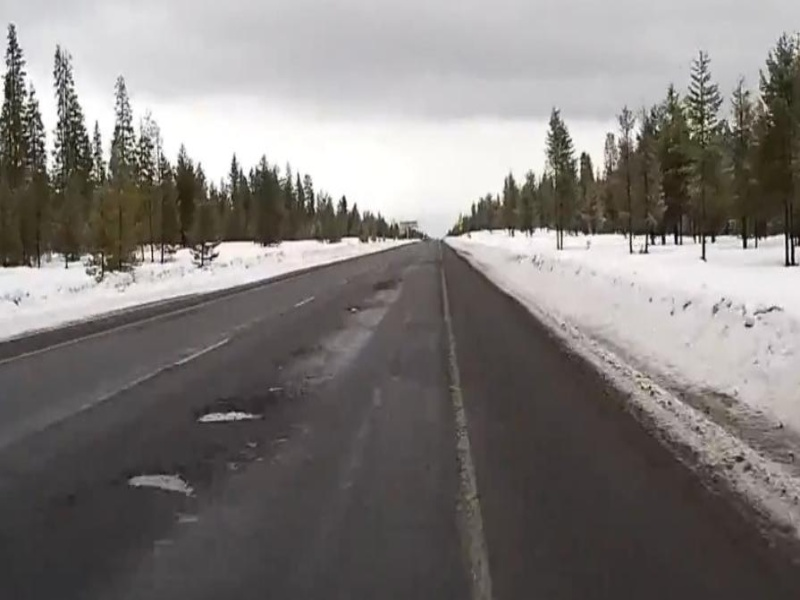pothole: (126, 462, 199, 498), (191, 406, 271, 430)
